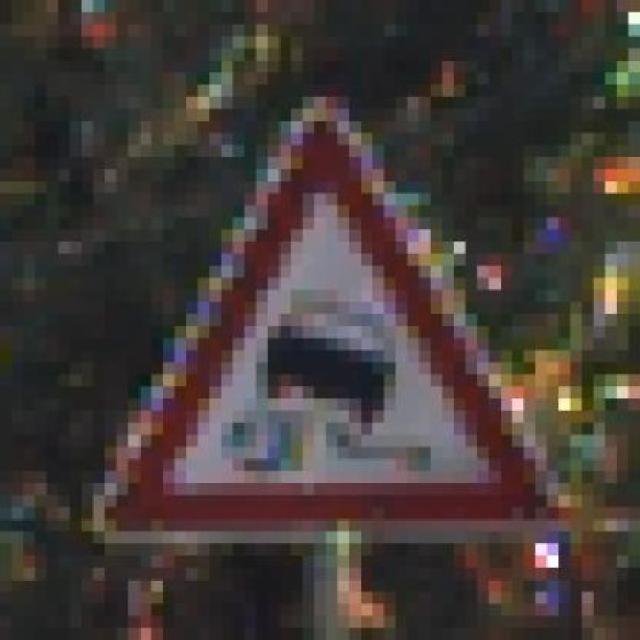Slippery Road Ahead: (82, 84, 570, 531)
